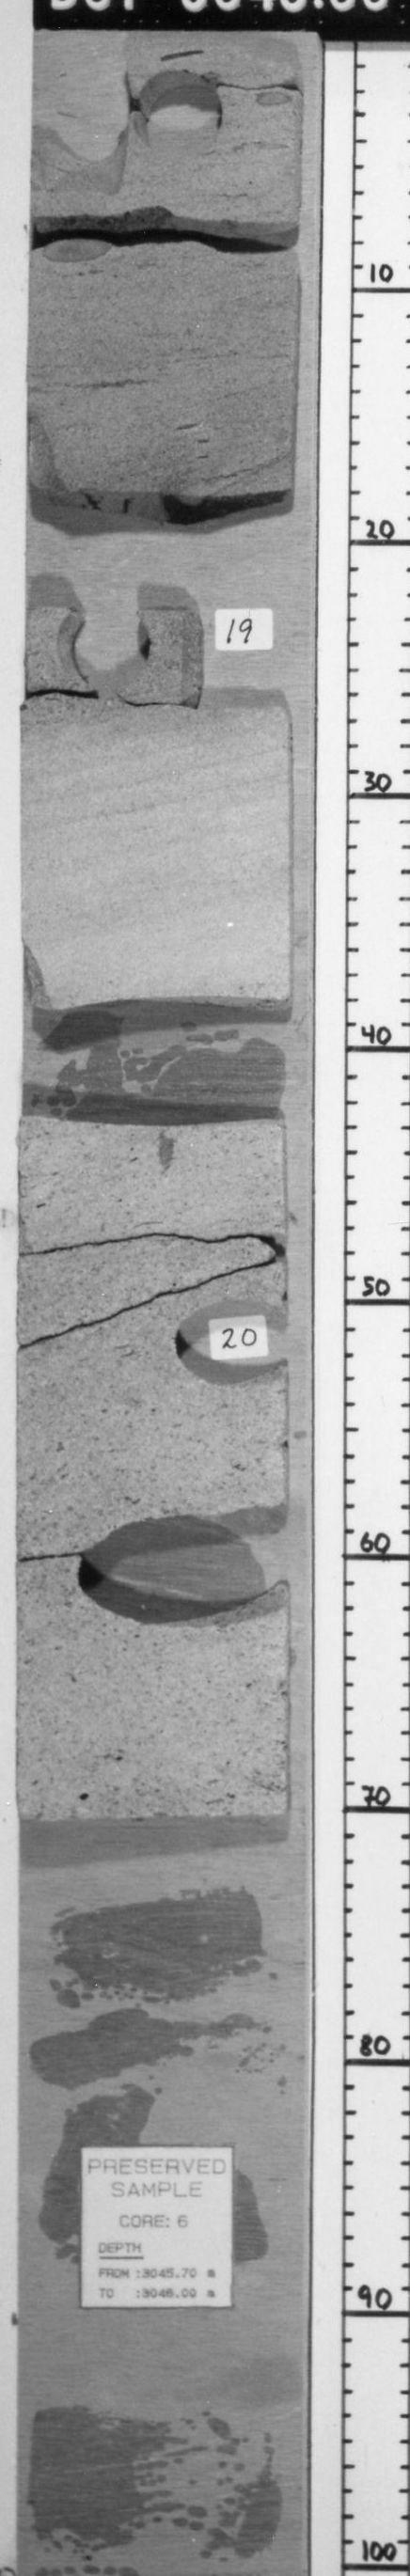hplug: (171, 1286, 280, 1393), (52, 613, 171, 700), (136, 69, 228, 161)
scal: (28, 992, 287, 1135), (64, 1492, 290, 1631)
vplug: (172, 486, 274, 715), (46, 79, 138, 200)
